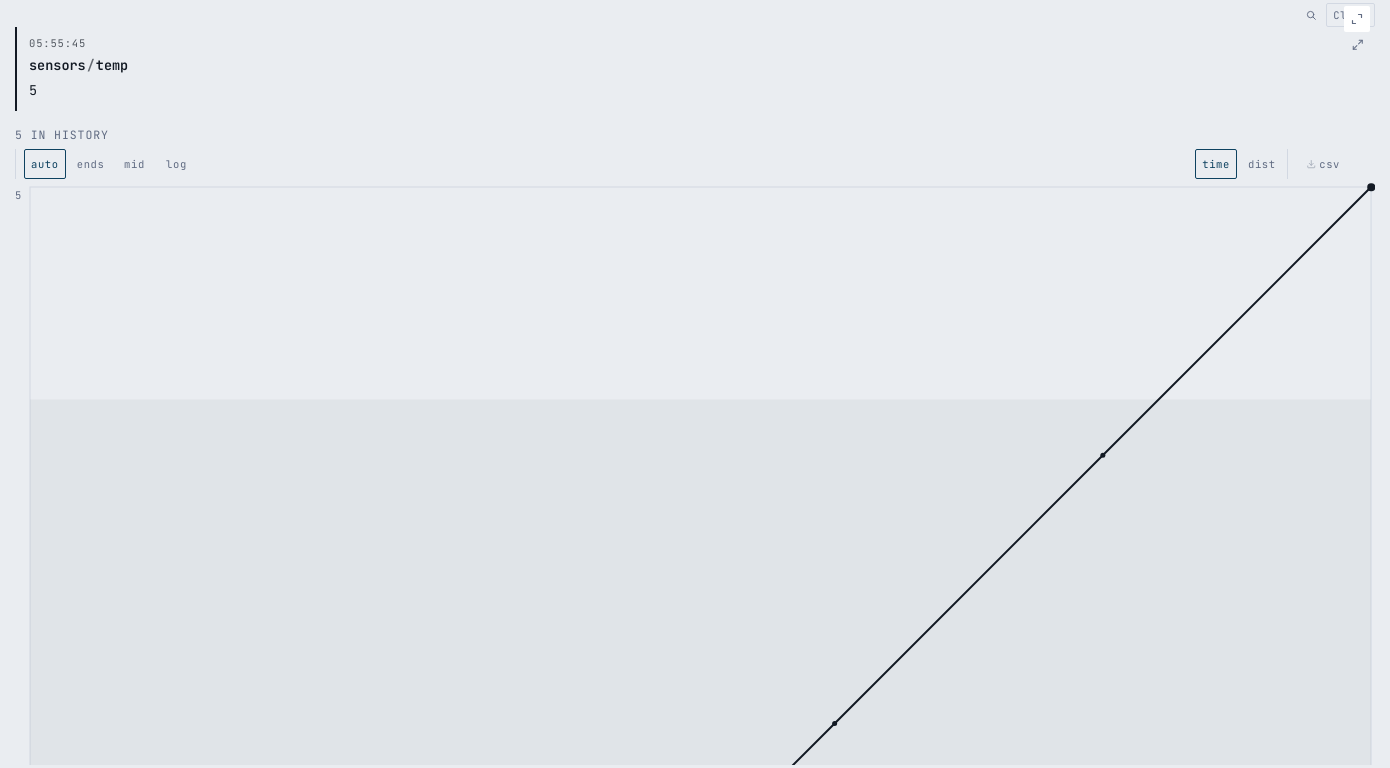
Test case: opening the history › says how much of the run is drawn below what the region can show
Click the button "5 in history": (62, 135) [15,121,109,149]
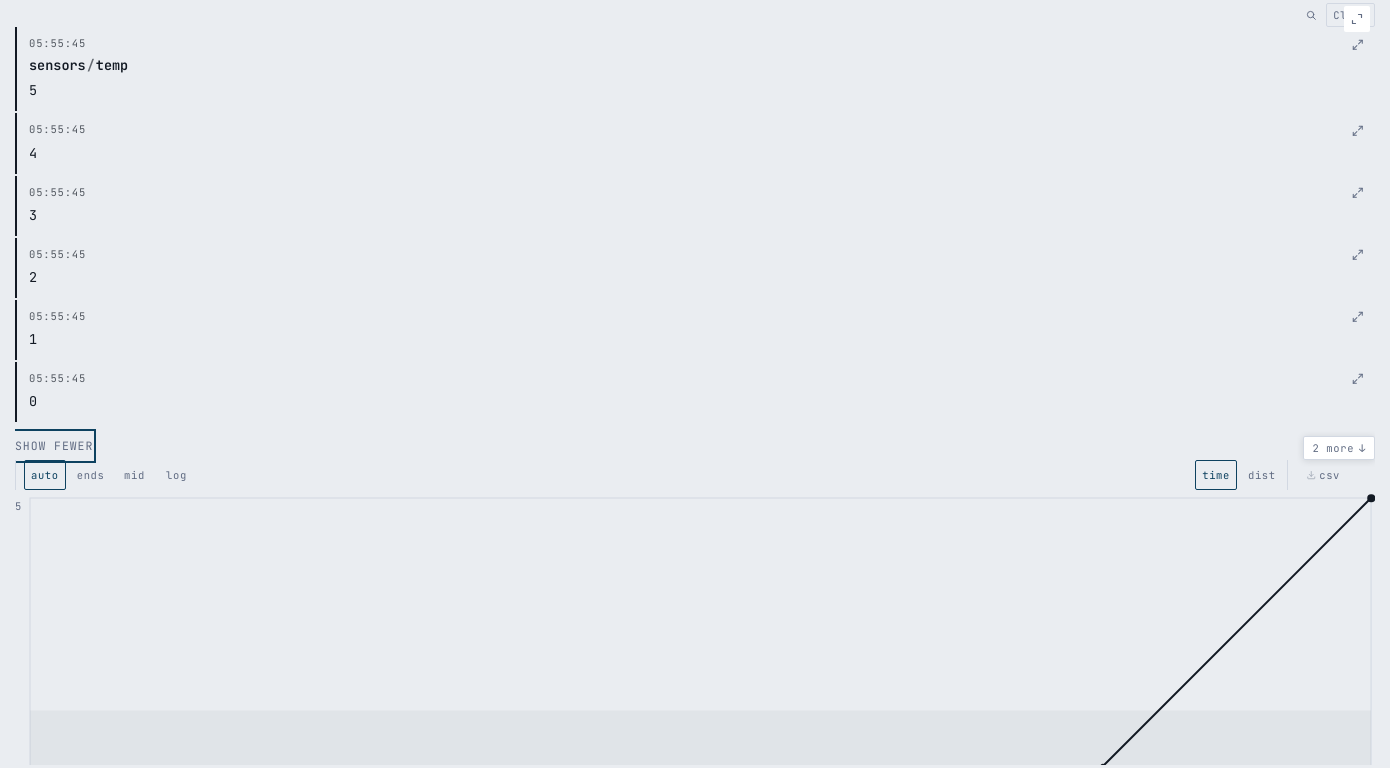
Result: the button with aria-label "2 more below" is shown at [1304,436,1375,460]
